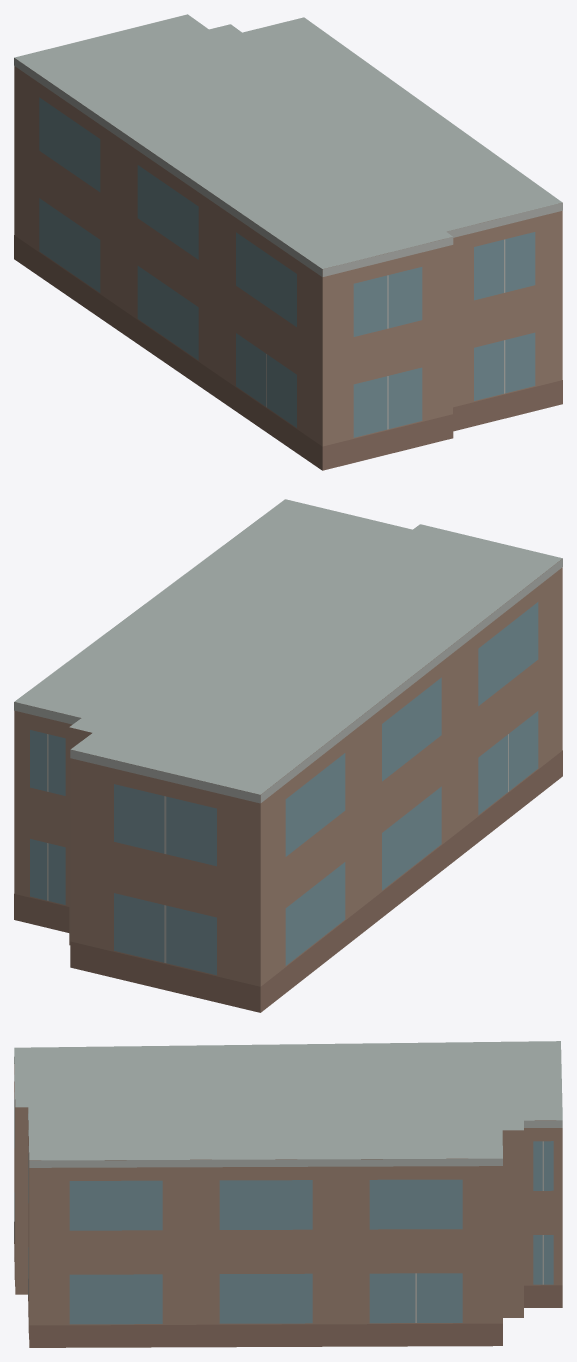
Rendered from survey-upis-32823657.glb.
The picture shows the model from 3 angles, top to bottom: view 1: azimuth 30°, elevation 25°; view 2: azimuth 150°, elevation 25°; view 3: azimuth 270°, elevation 25°; orthographic projection. The views are drawn at different scales.
Visible parts, largest first — view 1: survey-upis-32823657.tmp; view 2: survey-upis-32823657.tmp; view 3: survey-upis-32823657.tmp.
Part boxes in pixels (x1,y1,x2,y2): survey-upis-32823657.tmp: (14,14,562,470); survey-upis-32823657.tmp: (14,499,562,1012); survey-upis-32823657.tmp: (14,1041,562,1347).
Bounding box in the file's own units: 8.34 × 6.1 × 16.19.
